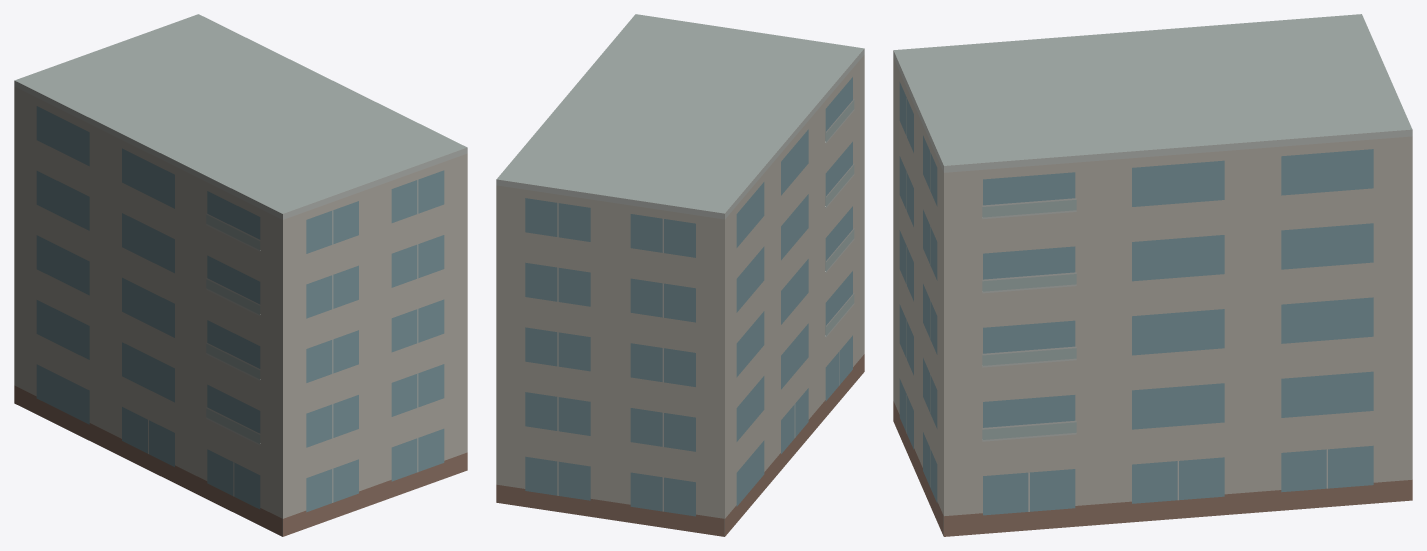
File: survey-upis-32843792.glb
3 renders of one model, left to right at view 1: azimuth 30°, elevation 25°; view 2: azimuth 150°, elevation 25°; view 3: azimuth 270°, elevation 25°, orthographic. The views are drawn at different scales.
Visible parts, largest first — view 1: survey-upis-32843792.tmp; view 2: survey-upis-32843792.tmp; view 3: survey-upis-32843792.tmp.
Part boxes in pixels (x1,y1,x2,y2): survey-upis-32843792.tmp: [14, 14, 467, 536]; survey-upis-32843792.tmp: [496, 14, 864, 536]; survey-upis-32843792.tmp: [893, 14, 1412, 536].
Size of the model in its own units: 11.61 by 13.2 by 16.76.
